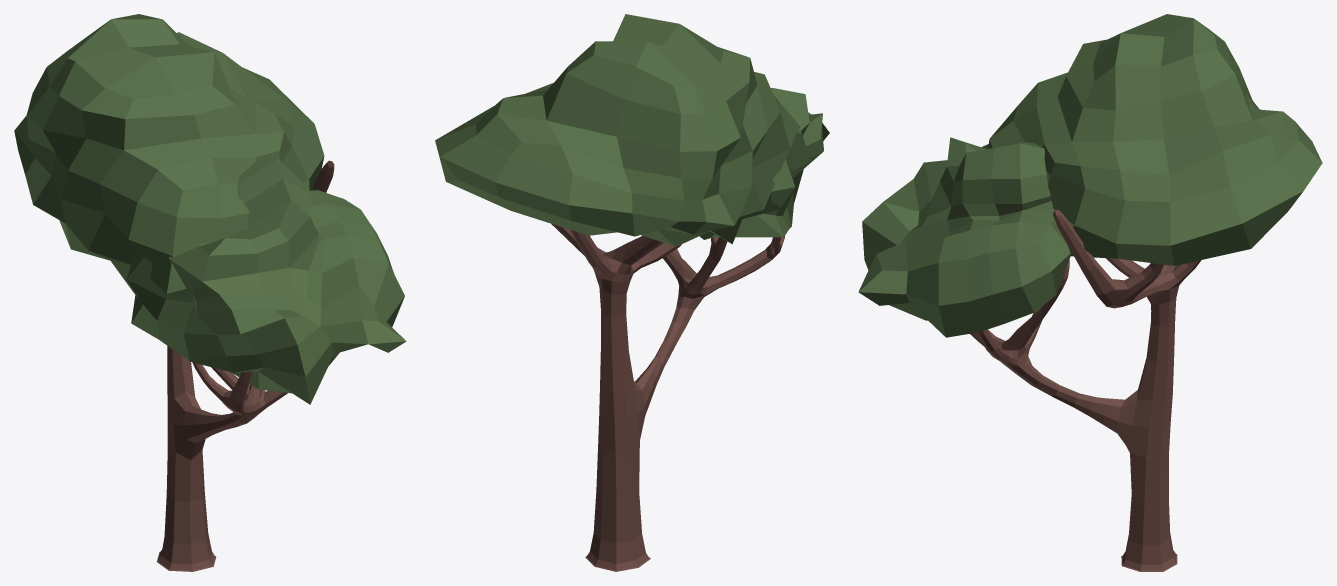
The model's file is CommonTree_2.glb.
3 renders of one model, left to right at view 1: azimuth 30°, elevation 25°; view 2: azimuth 150°, elevation 25°; view 3: azimuth 270°, elevation 25°, orthographic. The views are drawn at different scales.
Visible parts, largest first — view 1: Green, Wood; view 2: Green, Wood; view 3: Green, Wood.
Part boxes in pixels (x1,y1,x2,y2): Green: [14, 14, 406, 404]; Wood: [157, 160, 334, 571]; Green: [435, 14, 829, 246]; Wood: [551, 223, 784, 571]; Green: [858, 14, 1322, 337]; Wood: [970, 209, 1201, 571].
Size of the model in its own units: 4.32 by 8.12 by 6.61.
